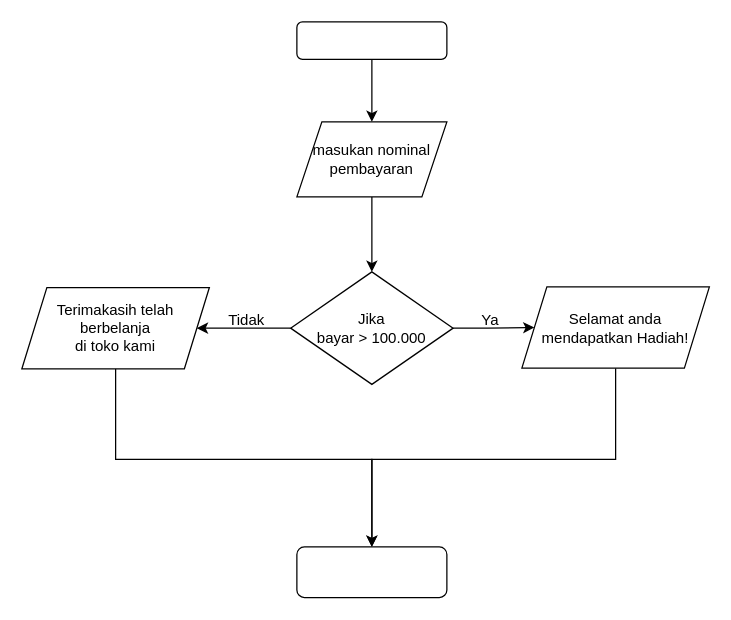
Image size: 731x620. Some labels were removed from this diagram. The centre of each missing label's shape, as x and y in pixels:
"MULAI" belongs at (371,40).
"selesai" belongs at (371,572).
